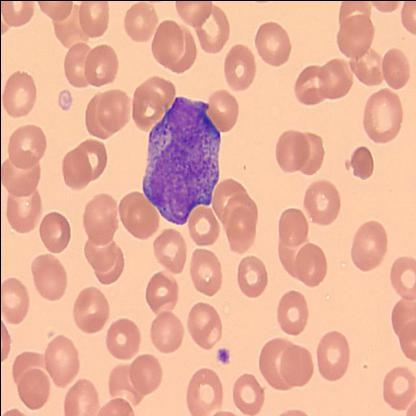Promyelocyte: (142, 92, 222, 223)
